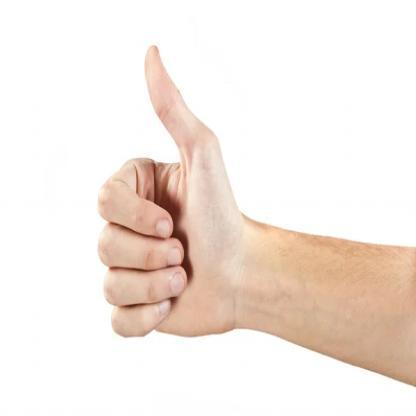thumb_up: (92, 36, 242, 340)
